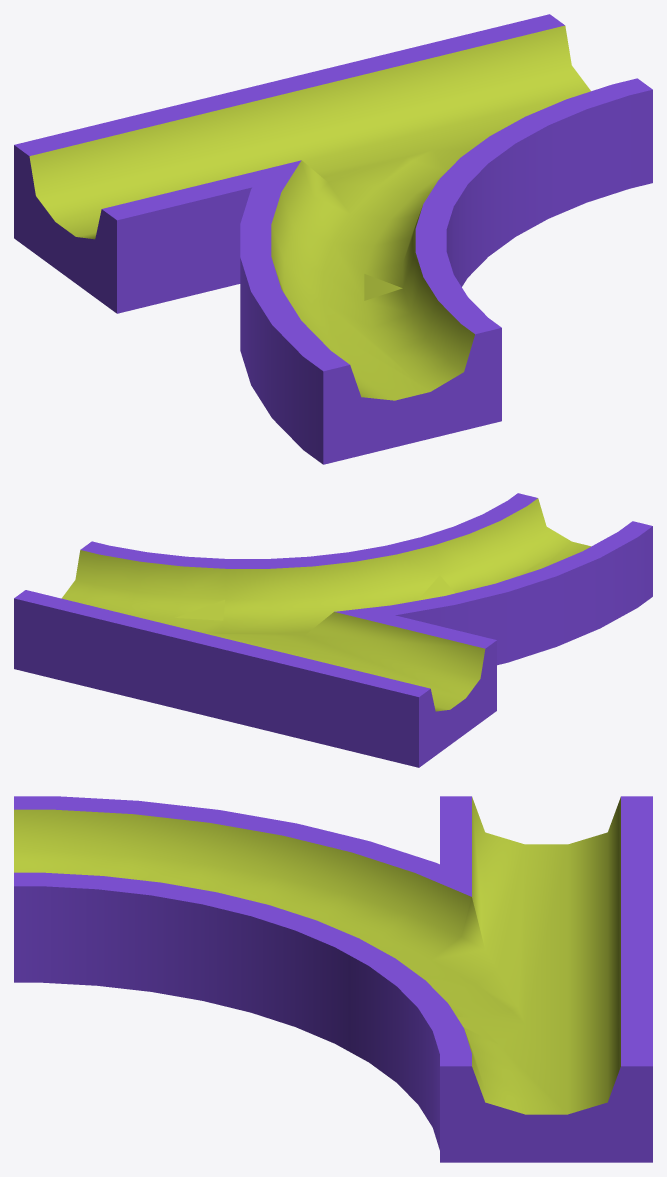
Rendered from split_large_left-col.dae.
The picture shows the model from 3 angles, top to bottom: view 1: azimuth 30°, elevation 25°; view 2: azimuth 150°, elevation 25°; view 3: azimuth 270°, elevation 25°; orthographic projection. The views are drawn at different scales.
Visible parts, largest first — view 1: split_large_left-col; view 2: split_large_left-col; view 3: split_large_left-col.
Part boxes in pixels (box(x1,y1,x2,y2)): split_large_left-col: box(14, 14, 652, 464); split_large_left-col: box(14, 493, 652, 767); split_large_left-col: box(14, 796, 652, 1162).
Bounding box in the file's own units: 3 × 3 × 0.5.
